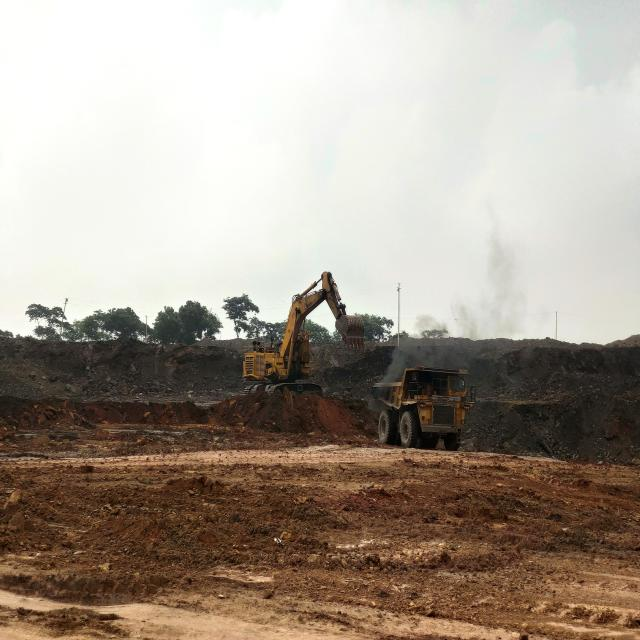dump_truck: (381, 367, 472, 452)
excavator: (243, 272, 365, 388)
